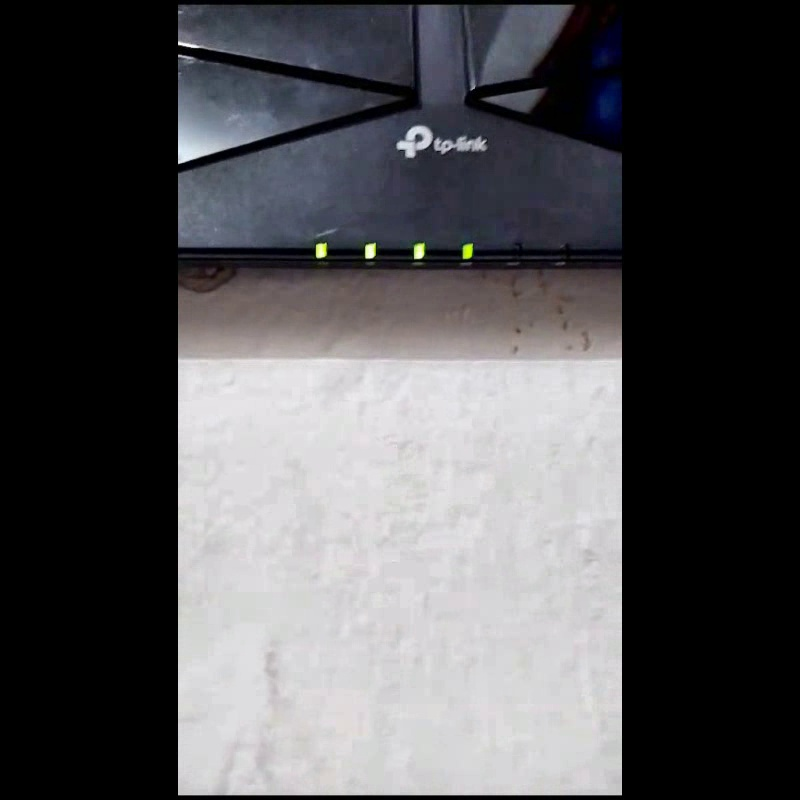off: (559, 241, 569, 259), (512, 241, 521, 256)
on_green: (316, 241, 327, 259), (414, 242, 424, 259), (365, 242, 375, 259), (462, 242, 472, 258)
